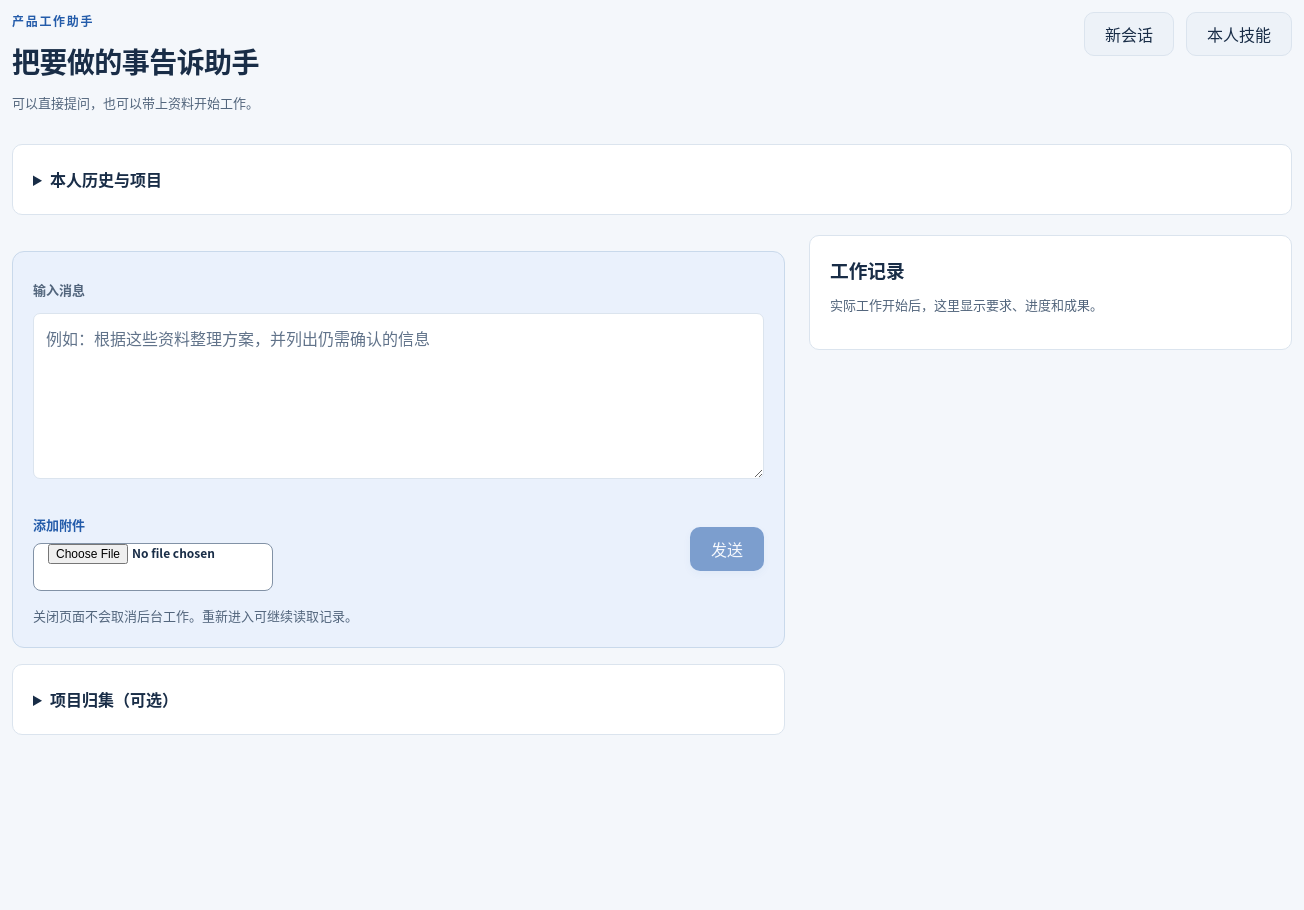
Test: creates a project using only its name
Click the heading "项目归集（可选）": (114, 699) [50,687,178,711]
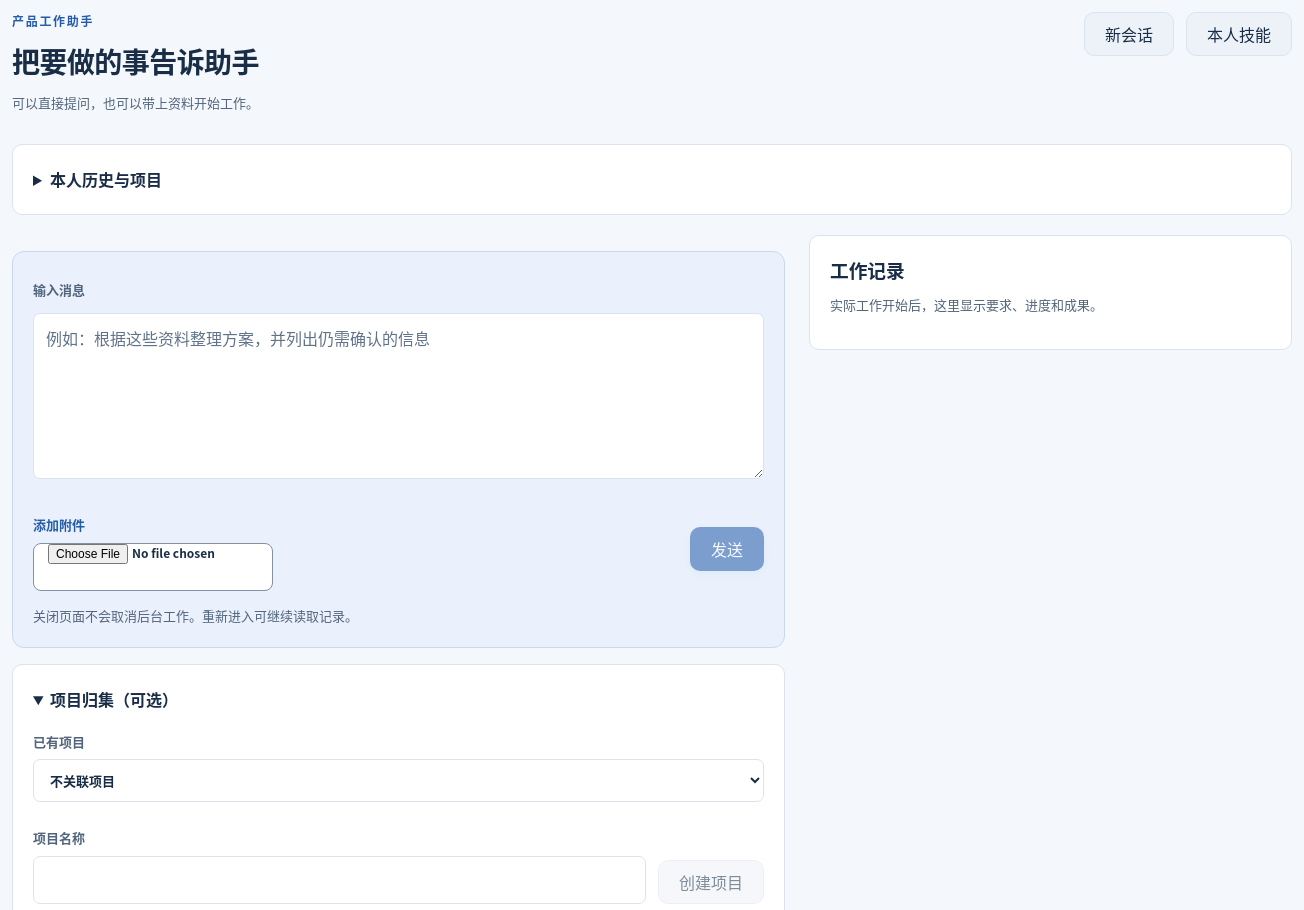
In the field labelled "项目名称": (339, 880) [33,856,646,904], type "横沟项目"
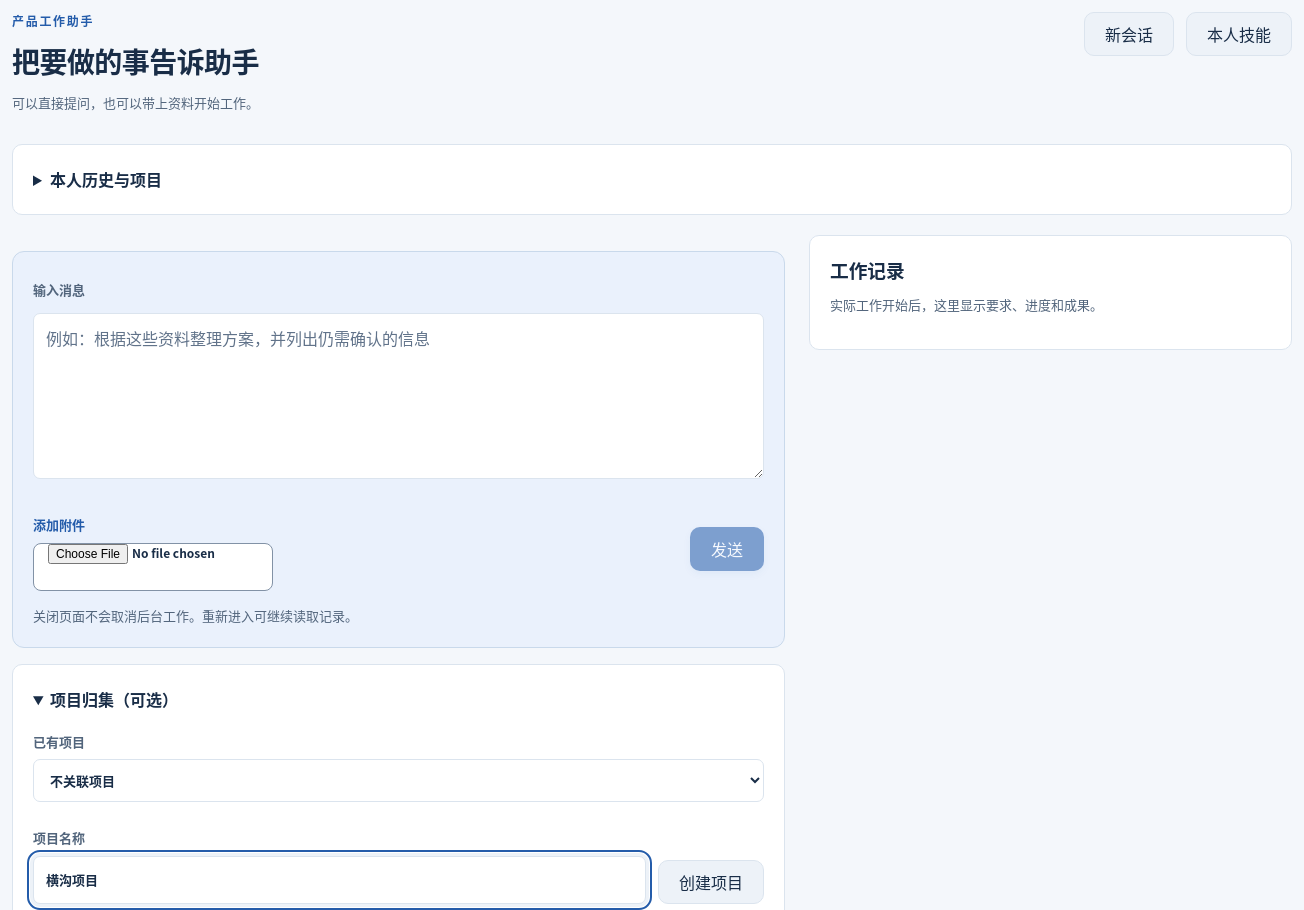
Click the button "创建项目": (711, 882) [658,860,764,904]
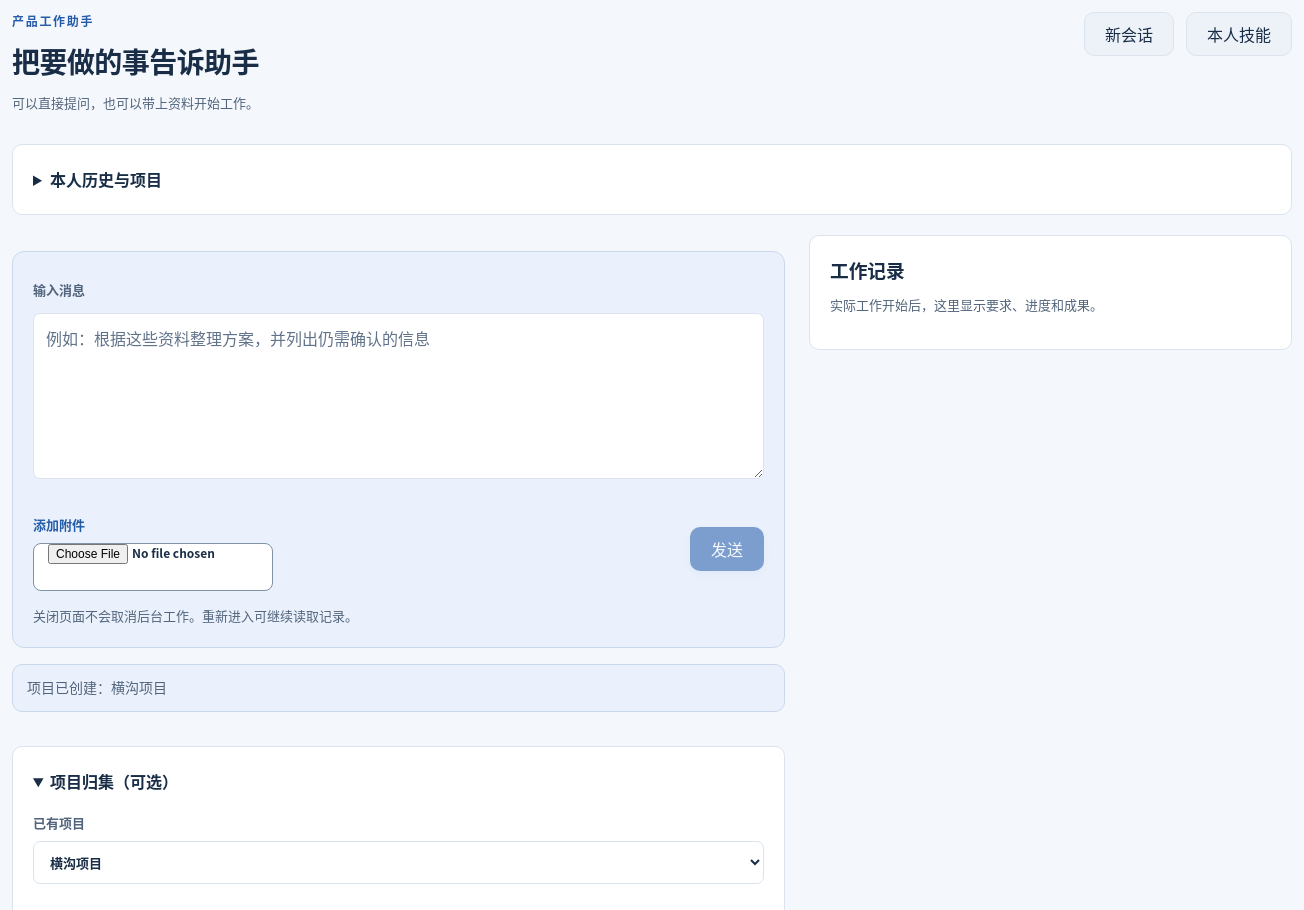
Now the text "项目已创建：横沟项目" is shown, box [12,664,785,712]
